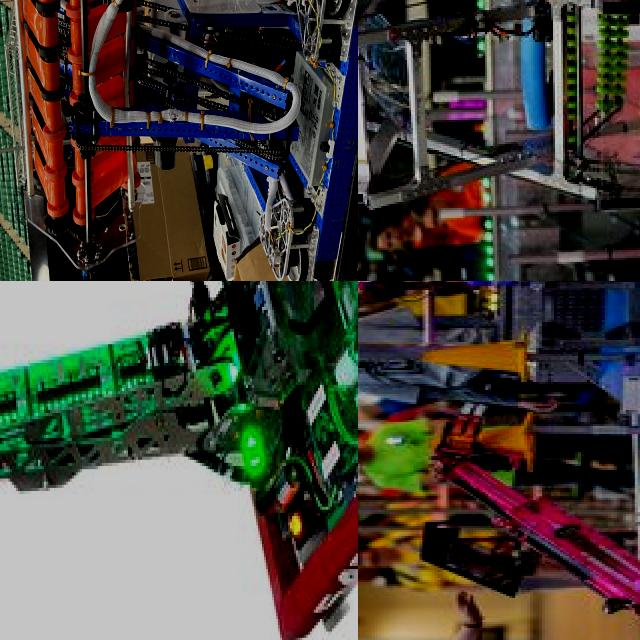FRC-Robots: (0, 281, 358, 632), (379, 302, 640, 640), (358, 0, 640, 281), (81, 0, 358, 281)
